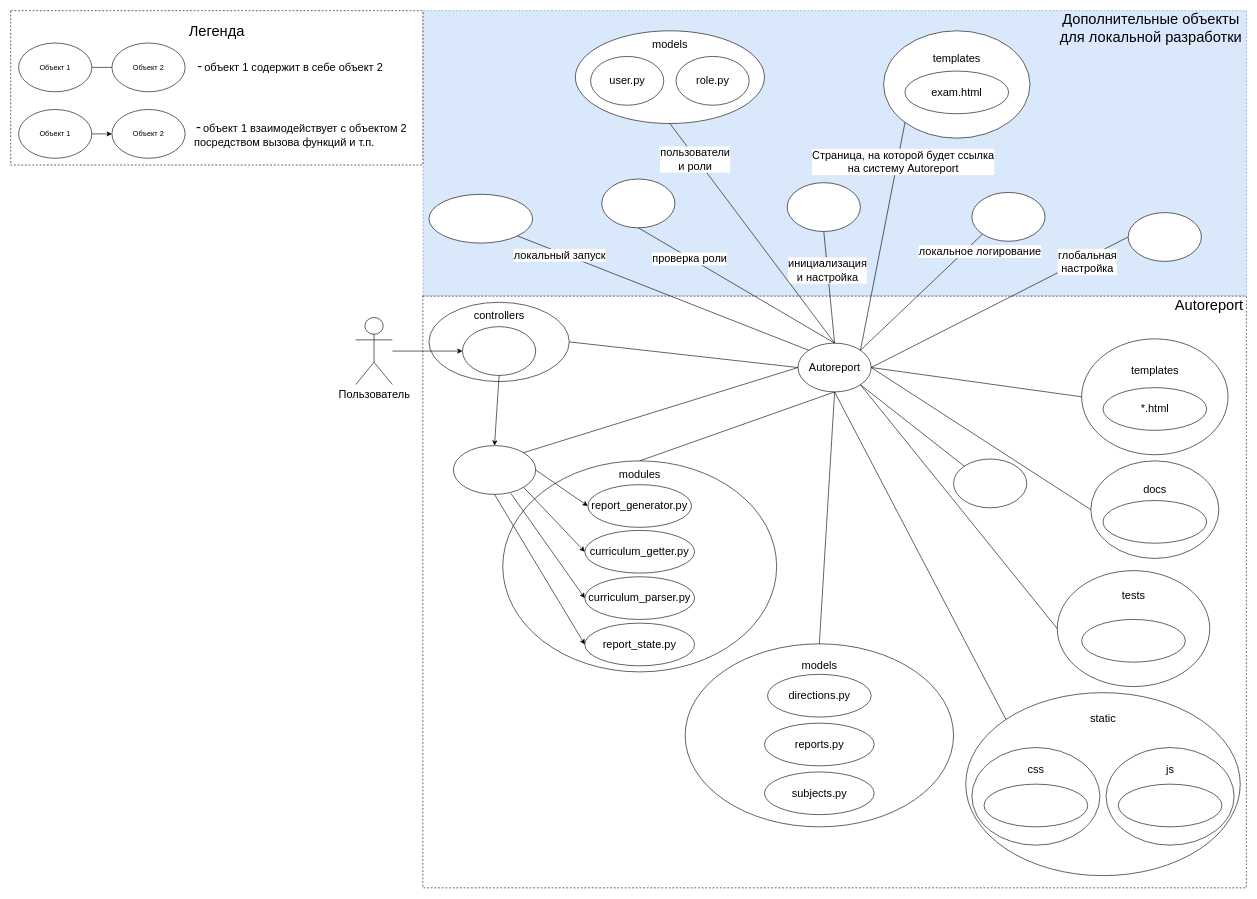
The diagram is 1257 pixels wide and 899 high, and some of its shapes have lost their labels. The centre of each missing label's shape, as x and y in pixels:
"*.css" goes at (1035,805).
"*.doc" goes at (1154,521).
"*.js" goes at (1170,805).
"__init__.py" goes at (823,206).
"autoreport.log" goes at (1008,216).
"autoreport.py" goes at (499,350).
"config.py" goes at (1164,236).
"config.txt" goes at (990,483).
"funcs.py" goes at (494,469).
"runlocalserver.py" goes at (480,218).
"test_app.py" goes at (1133,640).
"utils.py" goes at (638,203).
